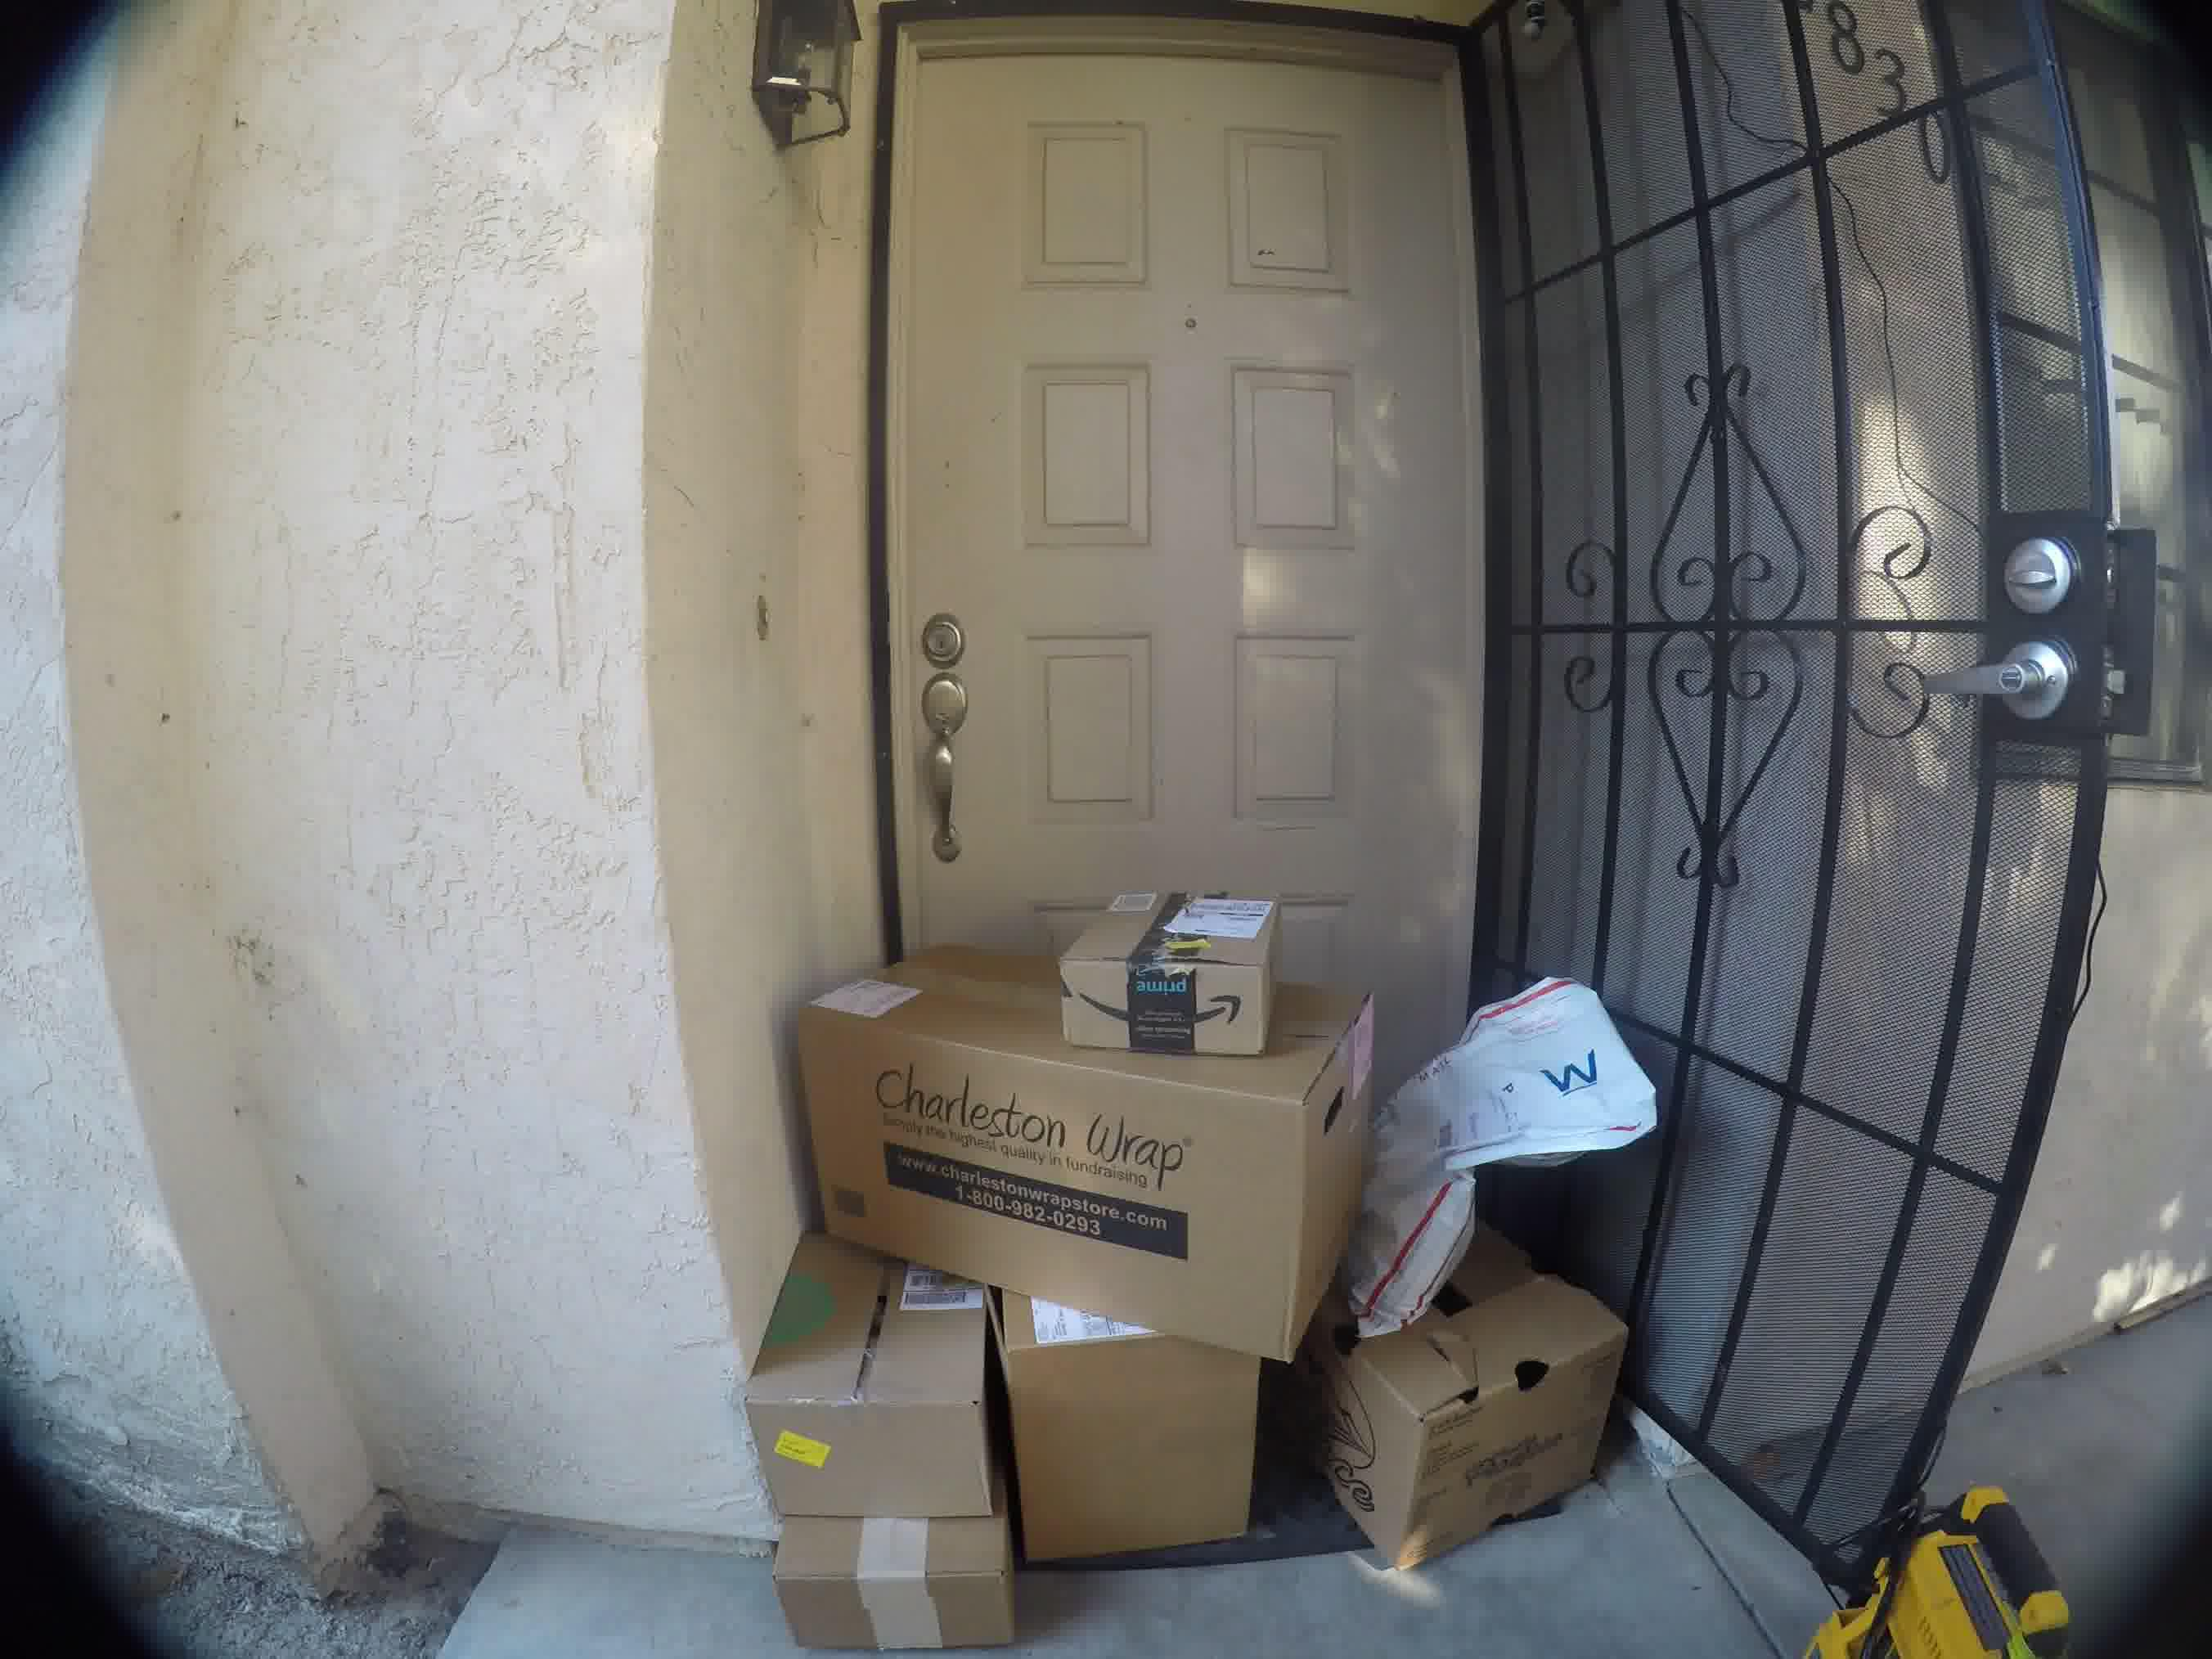box: (798, 1065, 1357, 1335), (1343, 1361, 1674, 1568), (1022, 1317, 1275, 1558), (1057, 854, 1284, 1058), (756, 1338, 998, 1523), (749, 1520, 1057, 1643)
plastic_bag: (1385, 967, 1658, 1321)
